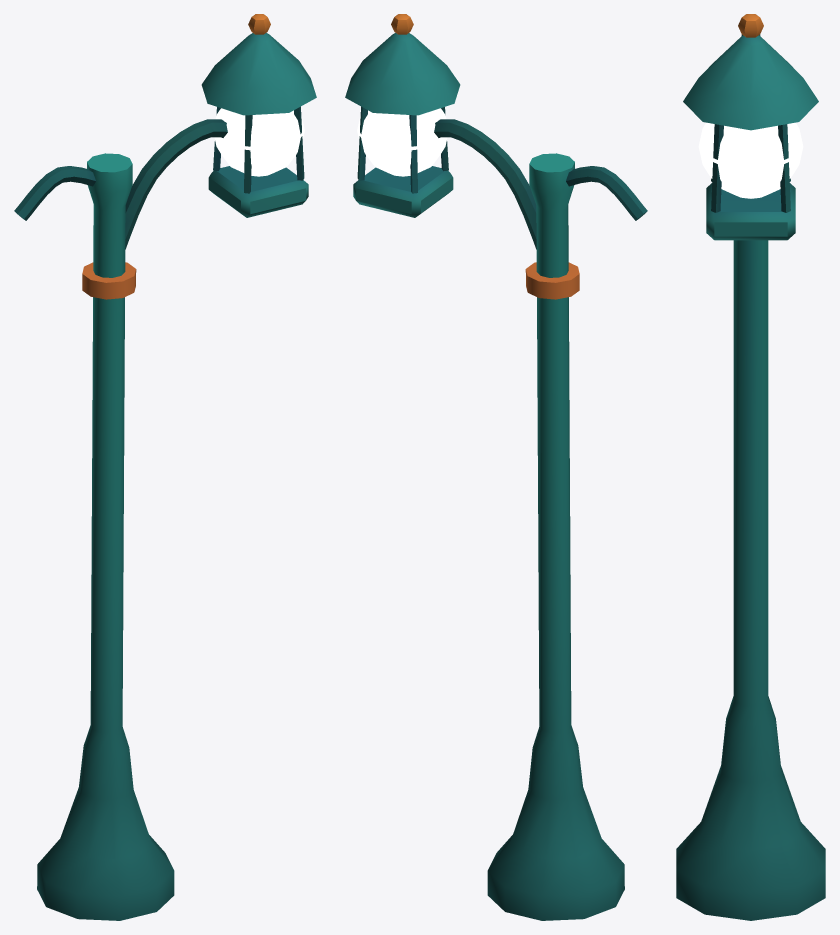
Rendered from common_town_lamppost.glb.
The picture shows the model from 3 angles, left to right: view 1: azimuth 30°, elevation 25°; view 2: azimuth 150°, elevation 25°; view 3: azimuth 270°, elevation 25°; orthographic projection. The views are drawn at different scales.
Parts seen in each view (by area): view 1: common_town_lamppost; view 2: common_town_lamppost; view 3: common_town_lamppost.
Part boxes in pixels (<box>): common_town_lamppost: <box>14,14,316,920</box>; common_town_lamppost: <box>345,14,647,920</box>; common_town_lamppost: <box>676,14,825,920</box>.
Size of the model in its own units: 1.48 by 4.04 by 0.5706.
